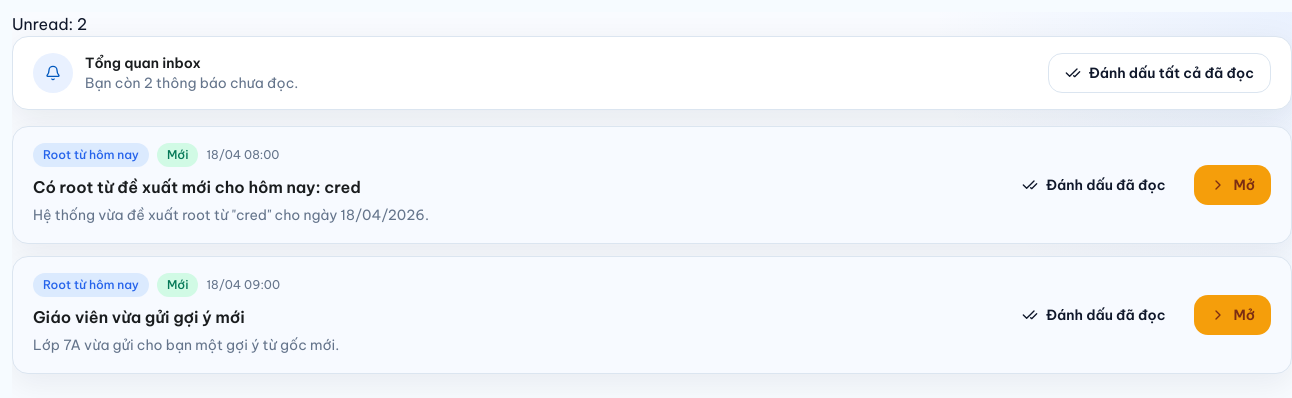
Test: NotificationsInbox › marks all local notifications as read without refreshing the page
Step 1. Click the button "Đánh dấu tất cả đã đọc" → (1159, 73), box 1048,53 -> 1271,93
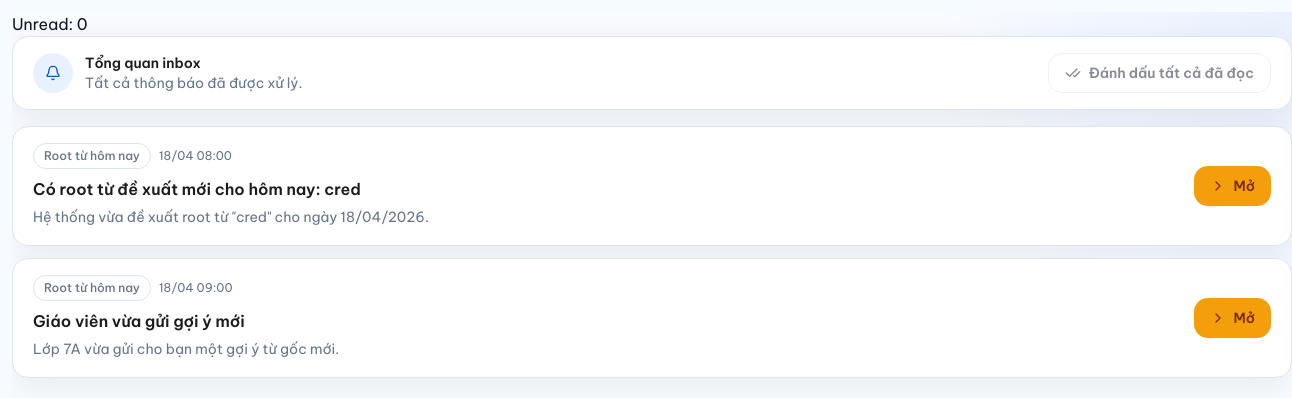
Result: the text "Unread: 0" is shown at 12,14 -> 88,34
